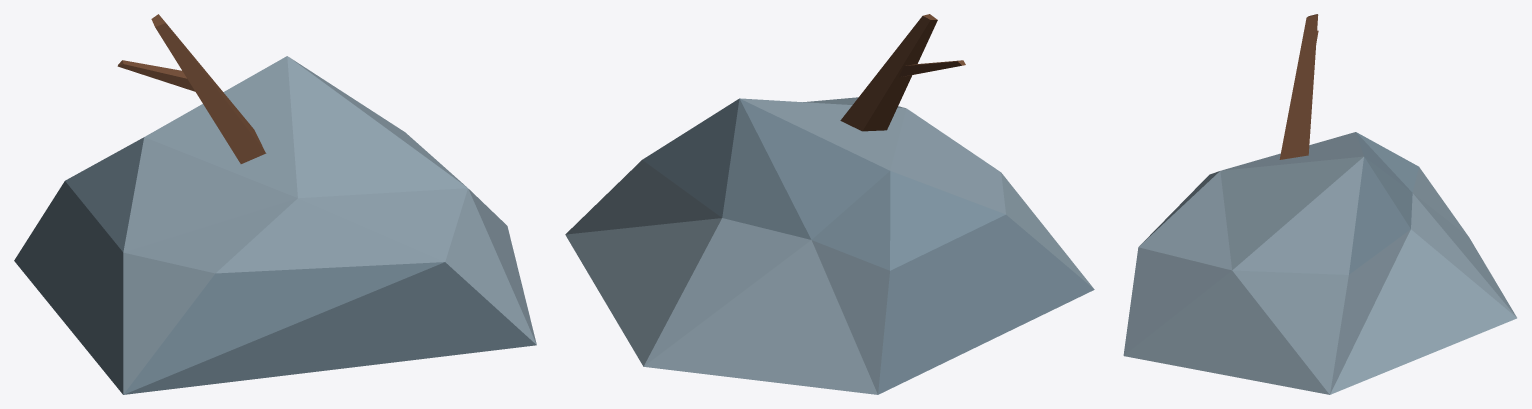
Rendered from Icemound3_Alt2.fbx.
3 views of the same model, side by side, from view 1: azimuth 30°, elevation 25°; view 2: azimuth 150°, elevation 25°; view 3: azimuth 270°, elevation 25° (orthographic). The views are drawn at different scales.
Visible parts, largest first — view 1: Icemound3_Alt2; view 2: Icemound3_Alt2; view 3: Icemound3_Alt2.
Part boxes in pixels (left/top/right/bottom): Icemound3_Alt2: left=14, top=14, right=536, bottom=394; Icemound3_Alt2: left=565, top=14, right=1094, bottom=394; Icemound3_Alt2: left=1123, top=14, right=1516, bottom=394.
Bounding box in the file's own units: 0.8783 × 0.5532 × 0.8164.
